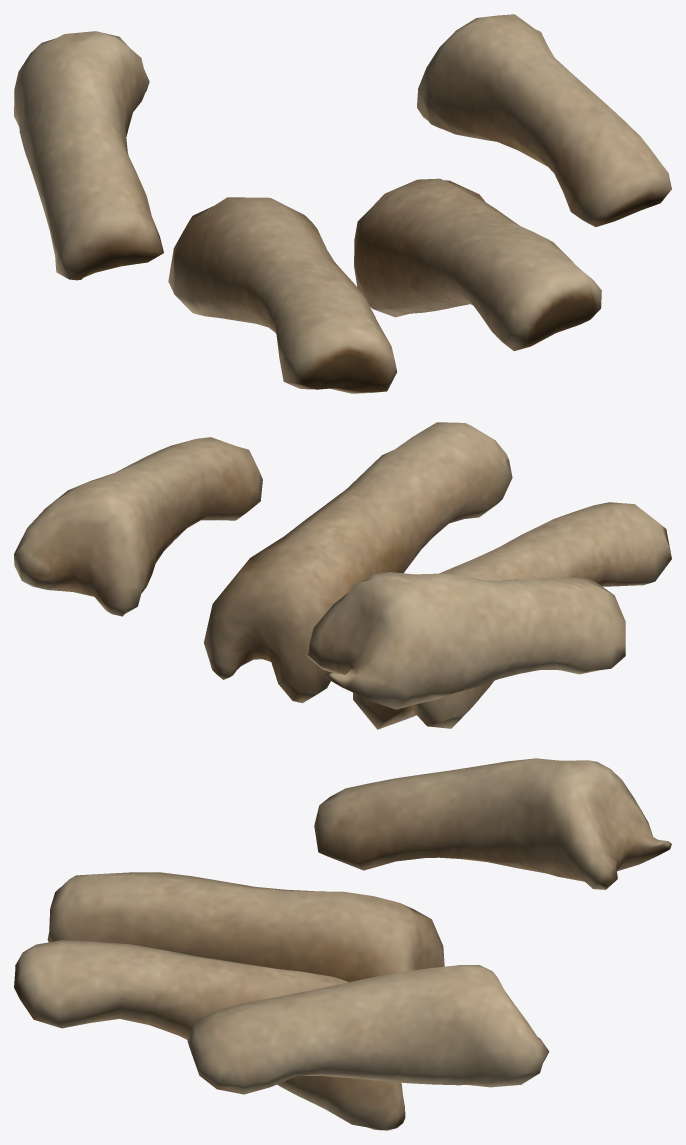
The model's file is Proximal Phalanges.glb.
3 views of the same model, one above another, from view 1: azimuth 30°, elevation 25°; view 2: azimuth 150°, elevation 25°; view 3: azimuth 270°, elevation 25° (orthographic). The views are drawn at different scales.
Visible parts, largest first — view 1: polySurface6, polySurface7, polySurface8, polySurface9; view 2: polySurface7, polySurface9, polySurface6, polySurface8; view 3: polySurface6, polySurface9, polySurface8, polySurface7.
Boxes of the visible parts, left/top/right/bottom form: polySurface6: left=417, top=14, right=671, bottom=226; polySurface7: left=354, top=178, right=601, bottom=351; polySurface8: left=168, top=197, right=396, bottom=393; polySurface9: left=14, top=31, right=163, bottom=280; polySurface7: left=204, top=422, right=512, bottom=703; polySurface9: left=305, top=572, right=625, bottom=709; polySurface6: left=14, top=437, right=262, bottom=616; polySurface8: left=353, top=502, right=671, bottom=729; polySurface6: left=187, top=965, right=549, bottom=1094; polySurface9: left=314, top=758, right=671, bottom=889; polySurface8: left=47, top=872, right=444, bottom=982; polySurface7: left=14, top=940, right=405, bottom=1130.
Size of the model in its own units: 38.54 by 16.78 by 40.43.
Materials: 1 (1 with a texture image).
